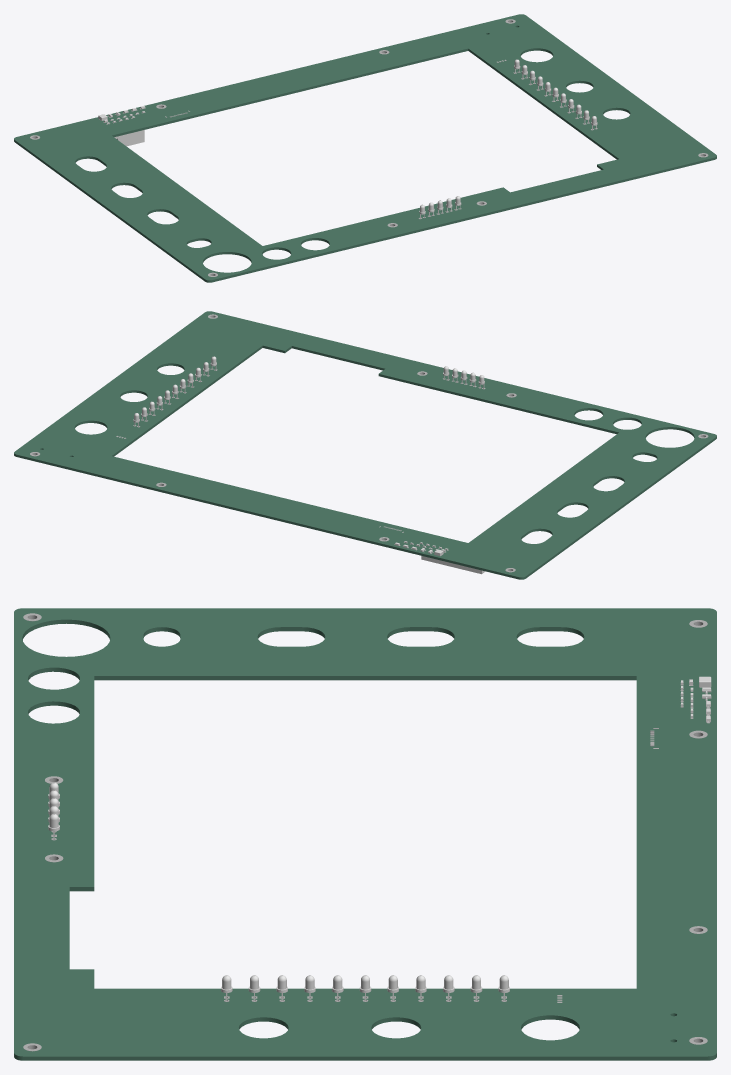
File: pcb-c7-backer.glb
3 views of the same model, one above another, from view 1: azimuth 30°, elevation 25°; view 2: azimuth 150°, elevation 25°; view 3: azimuth 270°, elevation 25° (orthographic). The views are drawn at different scales.
Visible parts, largest first — view 1: =>[0:1:1:21], =>[0:1:1:20]; view 2: =>[0:1:1:21], =>[0:1:1:20]; view 3: =>[0:1:1:21], =>[0:1:1:20].
Boxes of the visible parts, bbox=[...] form: =>[0:1:1:21]: bbox=[14, 14, 716, 282]; =>[0:1:1:20]: bbox=[30, 19, 708, 276]; =>[0:1:1:21]: bbox=[14, 311, 716, 579]; =>[0:1:1:20]: bbox=[30, 314, 708, 572]; =>[0:1:1:21]: bbox=[14, 608, 716, 1060]; =>[0:1:1:20]: bbox=[23, 613, 710, 1051].
Bounding box in the file's own units: 0.344 × 0.0196 × 0.228.
